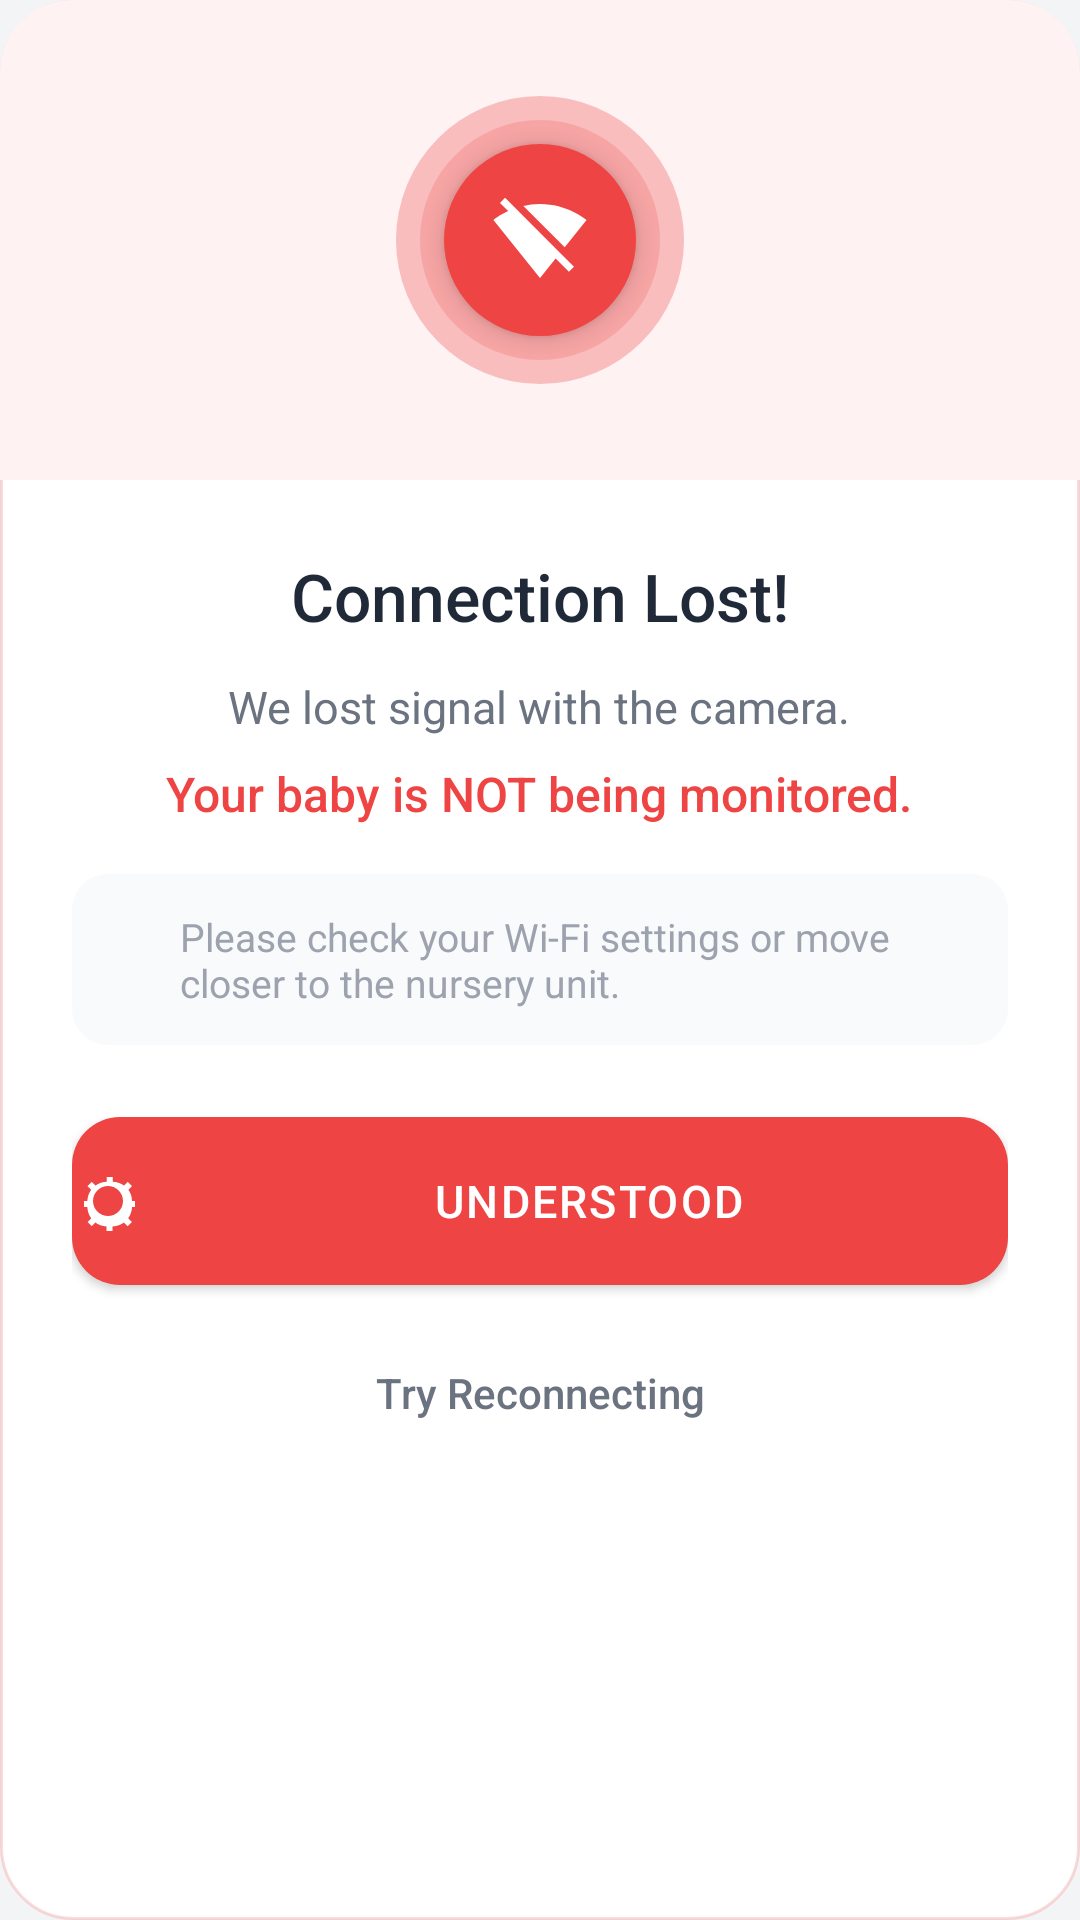

Point at icon controls on the screen. Image size 1080*1920, points as (x,y).
wifi off: (540,238)
